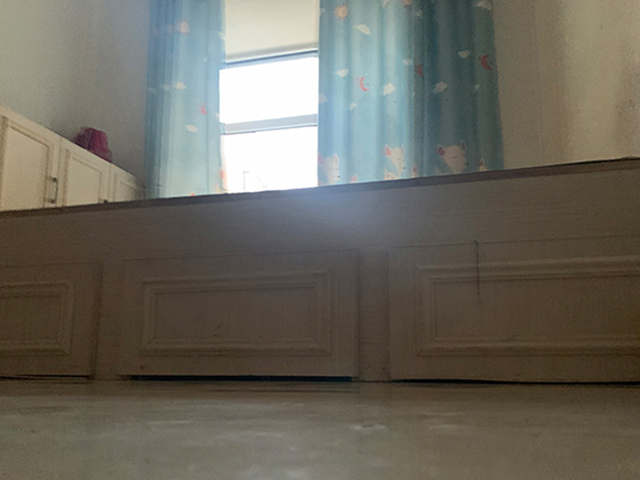bed: (2, 154, 640, 386)
curtain: (313, 1, 502, 181), (145, 1, 227, 197)
